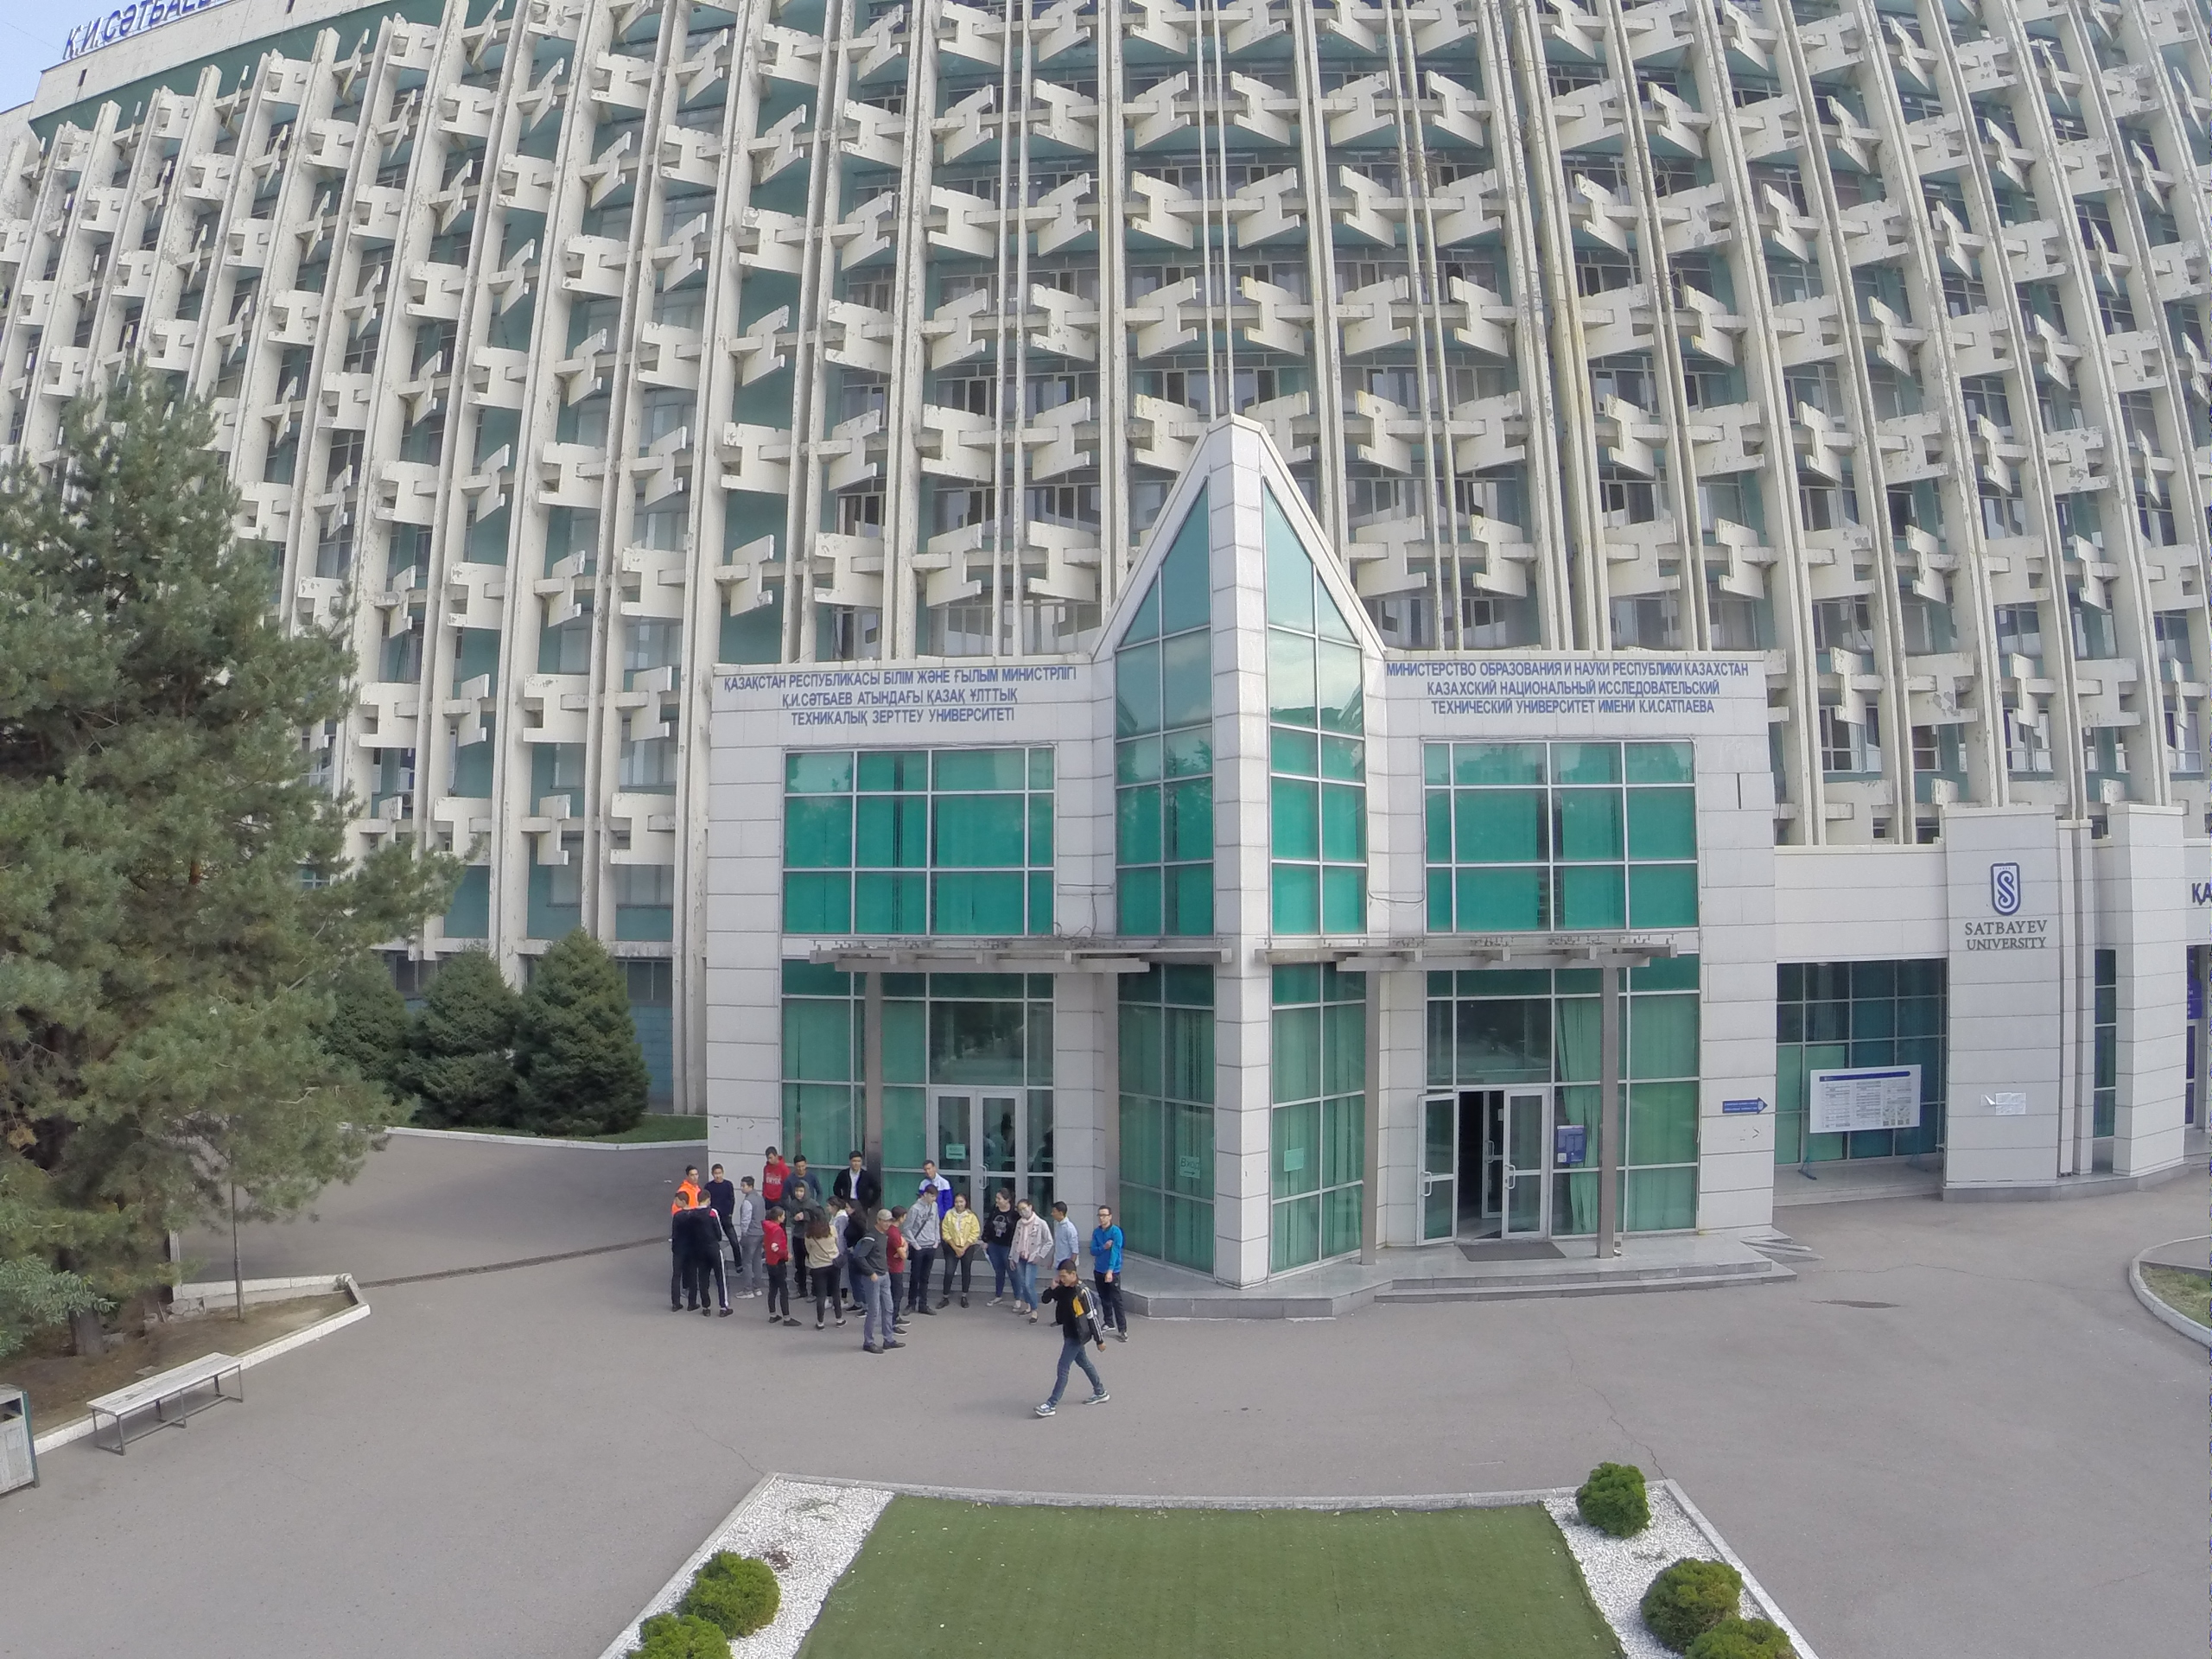person: (1034, 1263, 1109, 1415), (853, 1208, 906, 1355), (1089, 1200, 1128, 1342), (982, 1183, 1022, 1312), (758, 1209, 799, 1332), (804, 1209, 845, 1329), (696, 1192, 732, 1316), (941, 1196, 979, 1311), (1013, 1199, 1046, 1326), (909, 1191, 941, 1314), (734, 1176, 765, 1300), (891, 1205, 916, 1336), (667, 1192, 697, 1309), (829, 1147, 876, 1211), (709, 1160, 738, 1250), (1046, 1199, 1082, 1263), (759, 1145, 785, 1205), (917, 1160, 954, 1192), (787, 1181, 818, 1211), (677, 1163, 703, 1192), (787, 1154, 817, 1177), (829, 1197, 844, 1239)
